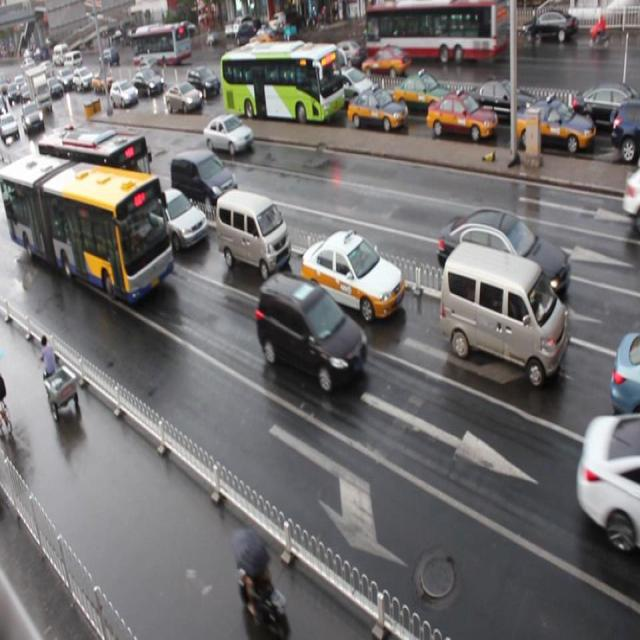car: (256, 272, 367, 394), (436, 209, 570, 310), (300, 229, 403, 321), (514, 101, 594, 160), (139, 188, 207, 252), (426, 91, 497, 145), (469, 79, 545, 127), (567, 86, 640, 133), (608, 330, 640, 433), (391, 70, 455, 116), (346, 88, 406, 134), (204, 114, 253, 157), (327, 62, 376, 104), (610, 100, 640, 161), (22, 159, 61, 204), (157, 82, 195, 114), (184, 65, 216, 100), (47, 126, 78, 160), (131, 69, 165, 97), (110, 80, 138, 106)
truck: (438, 240, 568, 389), (214, 187, 290, 282), (170, 148, 238, 209)
van: (1, 151, 174, 308), (38, 127, 154, 235), (216, 41, 339, 125)
